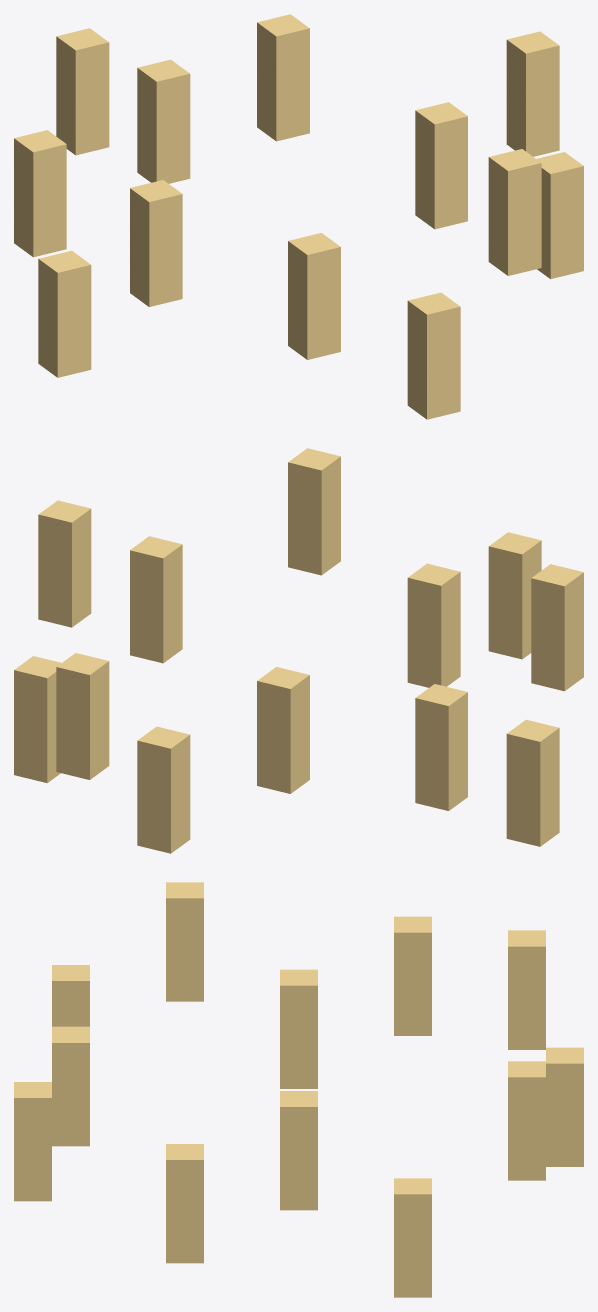
The model's file is BS_Pillar_Ring_2.fbx.
3 renders of one model, top to bottom at view 1: azimuth 30°, elevation 25°; view 2: azimuth 150°, elevation 25°; view 3: azimuth 270°, elevation 25°, orthographic.
Visible parts, largest first — view 1: BS_Pillar_Ring_2; view 2: BS_Pillar_Ring_2; view 3: BS_Pillar_Ring_2.
Part boxes in pixels (x1=…): BS_Pillar_Ring_2: x1=14, y1=14, x2=583, y2=419; BS_Pillar_Ring_2: x1=14, y1=448, x2=583, y2=853; BS_Pillar_Ring_2: x1=14, y1=882, x2=583, y2=1297.
Size of the model in its own units: 37.5 by 37.5 by 15.
